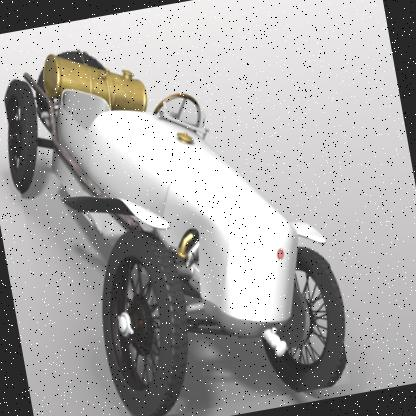Car: (0, 10, 351, 415)
